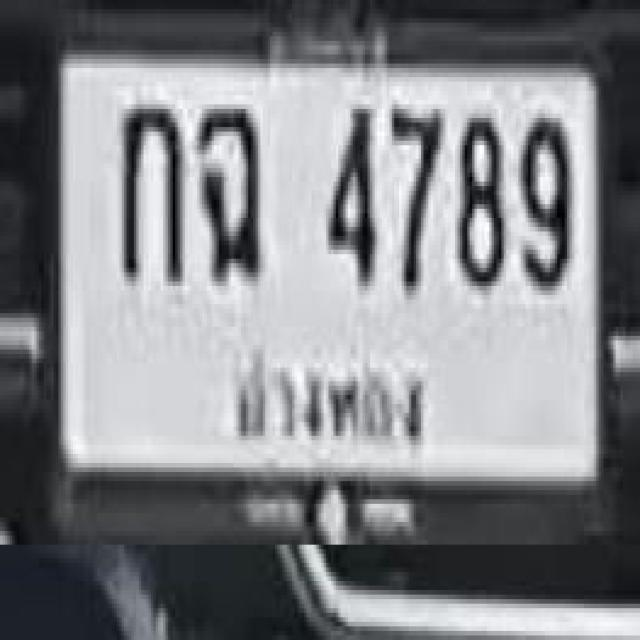license_plate: (41, 21, 620, 543)
